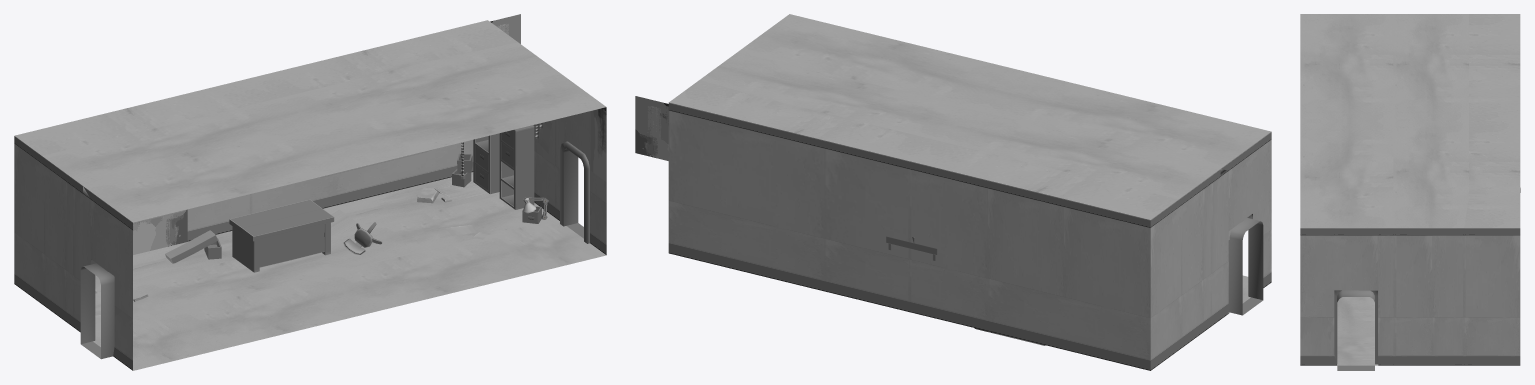
The model's file is MSH_QuestIndustrial_L1_R2_optimized.fbx.
3 views of the same model, side by side, from view 1: azimuth 30°, elevation 25°; view 2: azimuth 150°, elevation 25°; view 3: azimuth 270°, elevation 25° (orthographic). The views are drawn at different scales.
Visible parts, largest first — view 1: MSH_QuestIndustrial_L1_R2_Ceiling_01, lightmap3, lightmap2, lightmap1, lightmap0, MSH_QuestIndustrial_L1_R2_Dirt_01, MSH_QuestIndustrial_L1_R2_Papers_01; view 2: lightmap2, MSH_QuestIndustrial_L1_R2_Ceiling_01, lightmap1, MSH_QuestIndustrial_L1_R2_Dirt_01; view 3: MSH_QuestIndustrial_L1_R2_Ceiling_01, lightmap2, lightmap3, lightmap0, lightmap1.
Boxes of the visible parts, x1,y1,x2,y2 form: MSH_QuestIndustrial_L1_R2_Ceiling_01: [14, 20, 606, 222]; lightmap3: [93, 172, 606, 370]; lightmap2: [14, 107, 606, 370]; lightmap1: [80, 148, 583, 359]; lightmap0: [91, 123, 589, 259]; MSH_QuestIndustrial_L1_R2_Dirt_01: [91, 14, 606, 271]; MSH_QuestIndustrial_L1_R2_Papers_01: [95, 121, 551, 323]; lightmap2: [668, 102, 1271, 370]; MSH_QuestIndustrial_L1_R2_Ceiling_01: [669, 14, 1271, 219]; lightmap1: [886, 218, 1263, 315]; MSH_QuestIndustrial_L1_R2_Dirt_01: [635, 96, 1243, 345]; MSH_QuestIndustrial_L1_R2_Ceiling_01: [1300, 14, 1520, 227]; lightmap2: [1300, 228, 1520, 365]; lightmap3: [1337, 297, 1378, 365]; lightmap0: [1334, 290, 1378, 364]; lightmap1: [1337, 187, 1520, 370].
Size of the model in its own units: 21.47 by 5.93 by 8.53.
3 materials, 3 textured.
